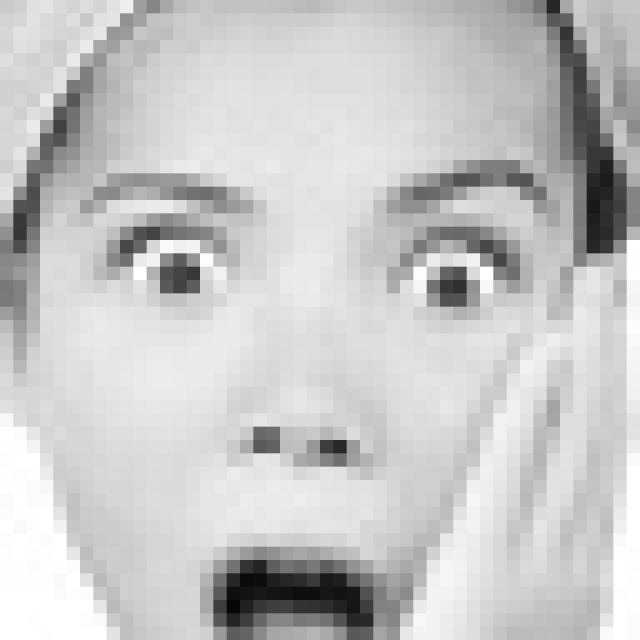surprise: (71, 153, 558, 640)
